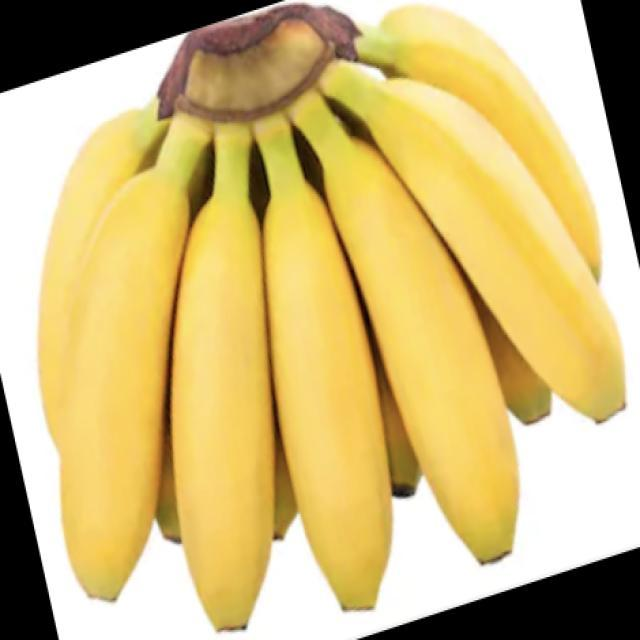Banana: (36, 0, 627, 633)
